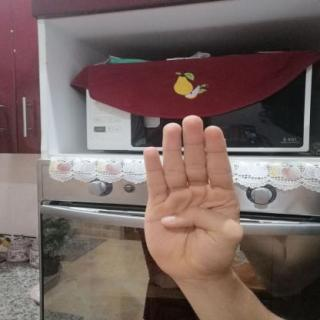KAAF: (130, 107, 256, 290)
